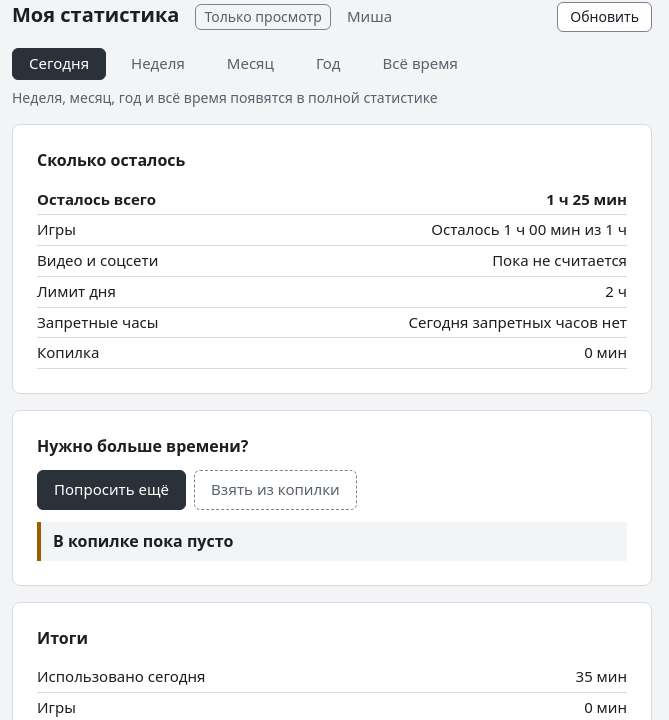
Test: MyStats: Мои правила › правил нет: говорит об этом и куда идти
Click the button "Обновить" at point(605, 17), box [557,2,652,32]
(page scrolled)
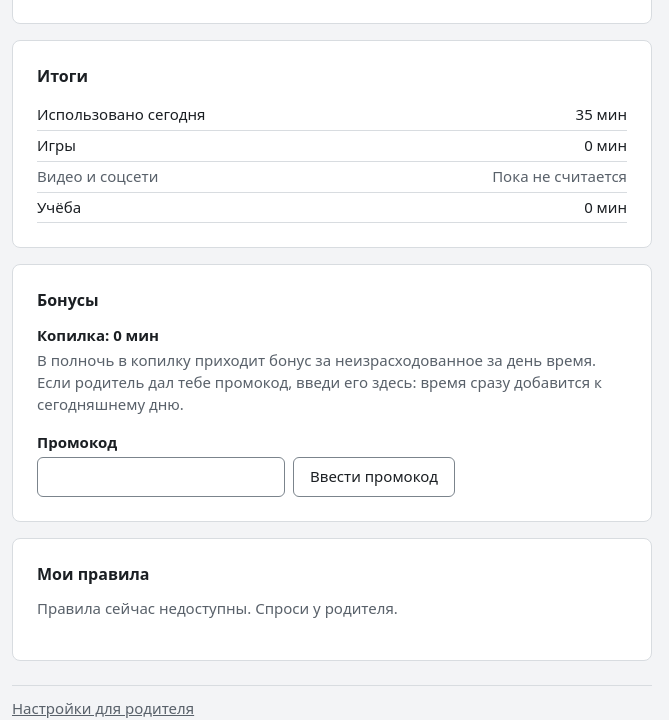
Expected: the text "Правила сейчас недоступны. Спроси у родителя." is shown, [37,598,398,618]
